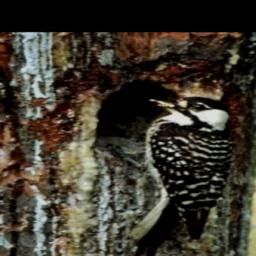Woodpecker: (125, 94, 232, 256)
